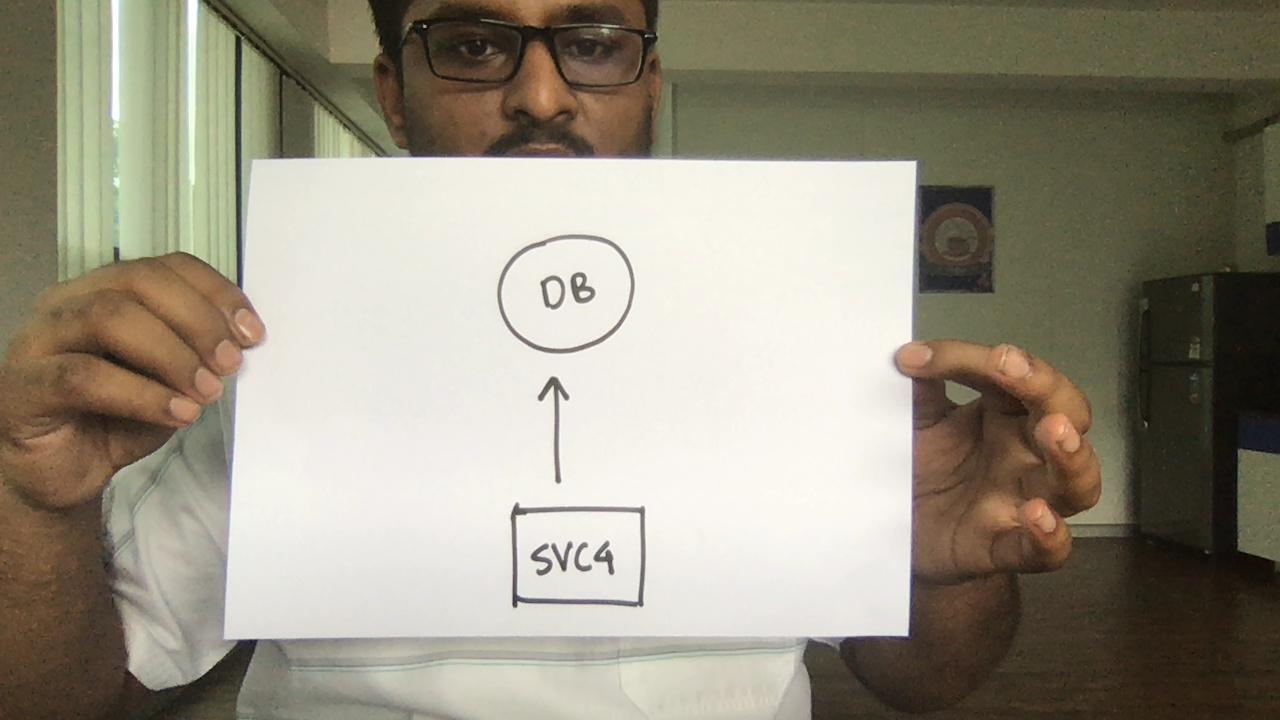arrow: (521, 365, 599, 493)
db: (489, 228, 643, 359)
ec2: (505, 498, 655, 616)
